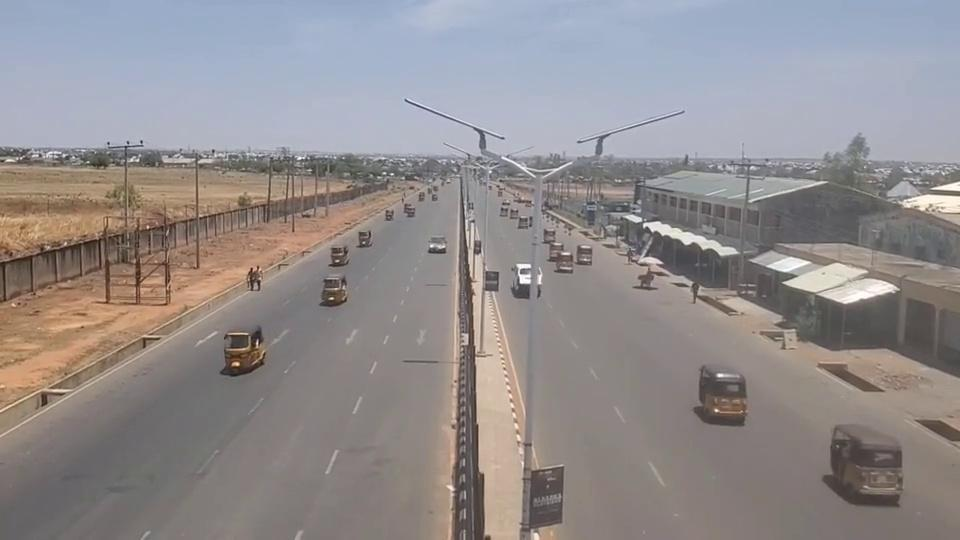bus: (512, 263, 544, 296)
car: (428, 236, 447, 254)
keke: (829, 422, 903, 502), (697, 363, 747, 422), (222, 326, 266, 374), (321, 273, 348, 304), (329, 245, 349, 266), (576, 244, 593, 265), (358, 230, 372, 247), (385, 208, 394, 221)
